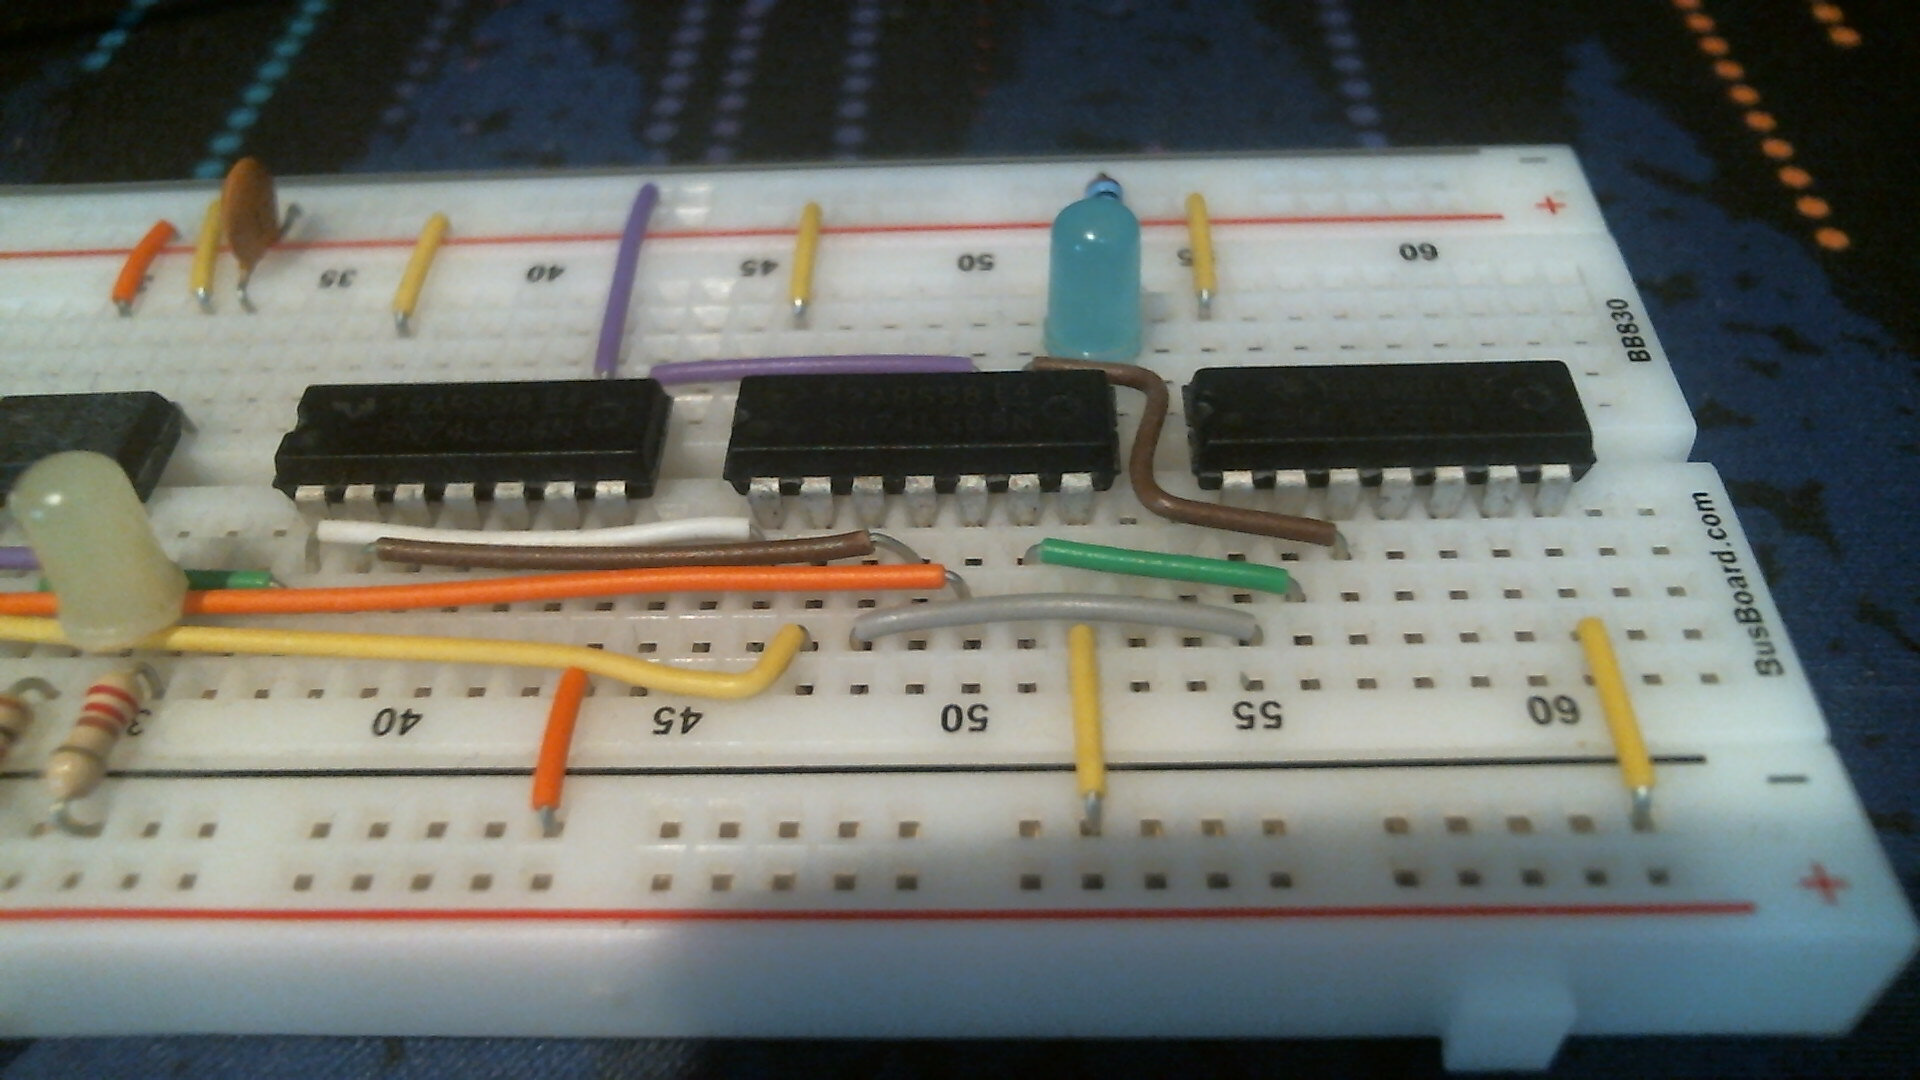IC: (1180, 357, 1601, 510), (720, 367, 1126, 516), (269, 376, 676, 514)
LED: (7, 448, 193, 658), (1039, 194, 1146, 365)
ceramic_capacitor: (218, 153, 301, 287)
resistor: (44, 665, 153, 823)
